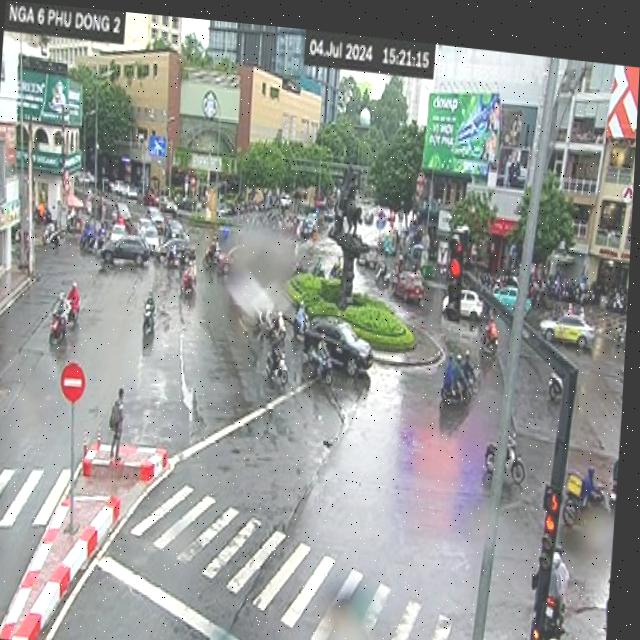Red: (439, 214, 472, 314), (538, 469, 569, 564), (534, 613, 549, 640)
